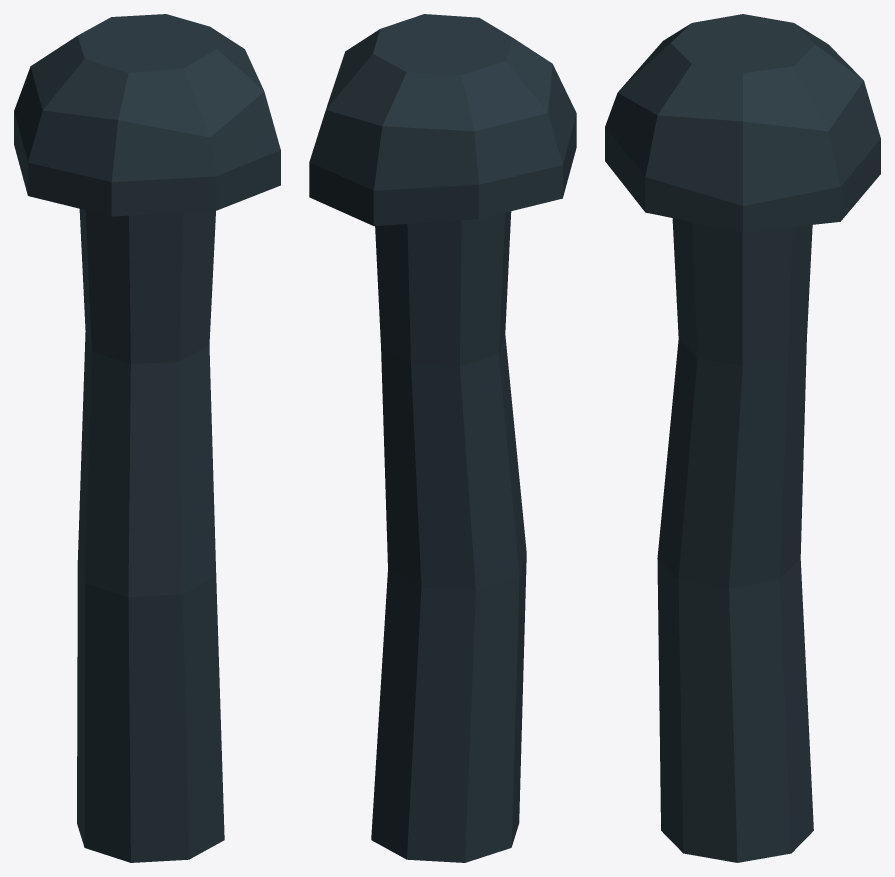
The model's file is Chimney 03.fbx.
3 renders of one model, left to right at view 1: azimuth 30°, elevation 25°; view 2: azimuth 150°, elevation 25°; view 3: azimuth 270°, elevation 25°, orthographic.
Visible parts, largest first — view 1: Chimney 03; view 2: Chimney 03; view 3: Chimney 03.
Boxes of the visible parts, x1,y1,x2,y2 form: Chimney 03: [14, 14, 280, 862]; Chimney 03: [309, 14, 576, 862]; Chimney 03: [605, 14, 880, 862].
Bounding box in the file's own units: 103 × 325 × 103.
